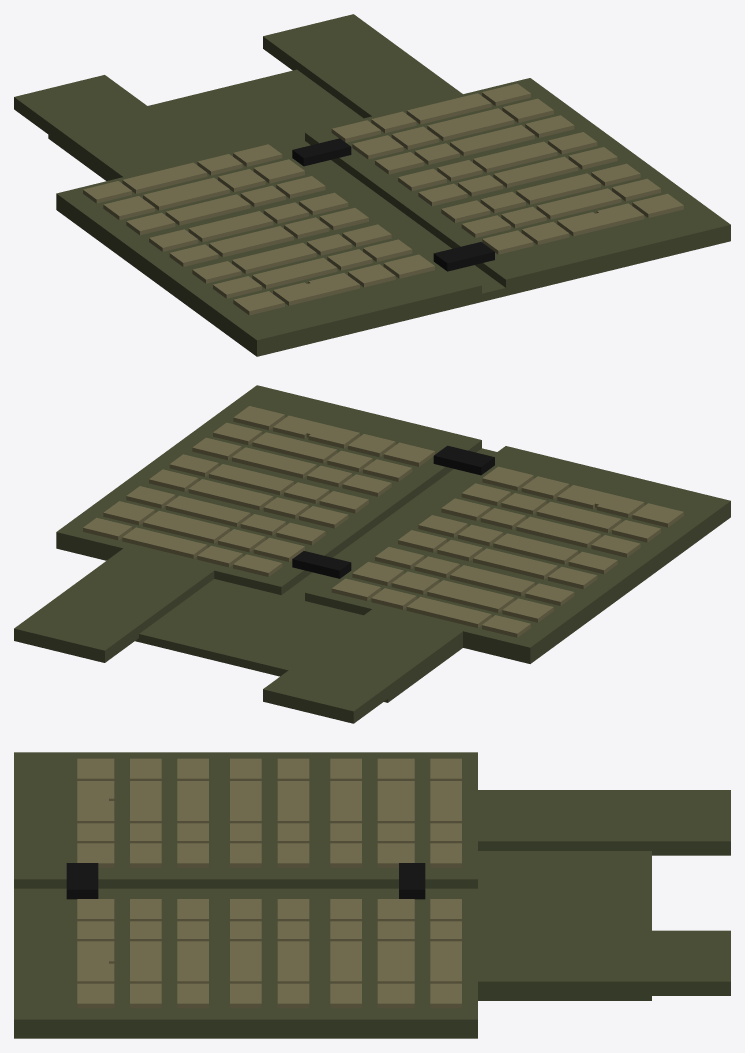
Rendered from load_bearing_vest.glb.
3 renders of one model, top to bottom at view 1: azimuth 30°, elevation 25°; view 2: azimuth 150°, elevation 25°; view 3: azimuth 270°, elevation 25°, orthographic. The views are drawn at different scales.
Parts seen in each view (by area): view 1: load_bearing_vest:compound; view 2: load_bearing_vest:compound; view 3: load_bearing_vest:compound.
Boxes of the visible parts, box(x1,y1,x2,y2) form: load_bearing_vest:compound: box(14, 14, 730, 356); load_bearing_vest:compound: box(14, 385, 730, 723); load_bearing_vest:compound: box(14, 752, 730, 1038).
Bounding box in the file's own units: 0.48 × 0.024 × 0.544.
